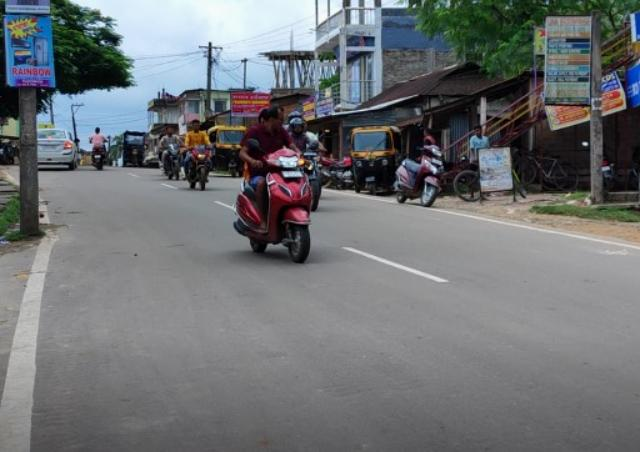licensePlate: (282, 170, 304, 178)
motorcycle: (233, 96, 314, 265), (184, 115, 215, 192), (161, 119, 184, 182)
withoutHelmet: (266, 101, 287, 132), (191, 119, 201, 132), (165, 124, 175, 135)
